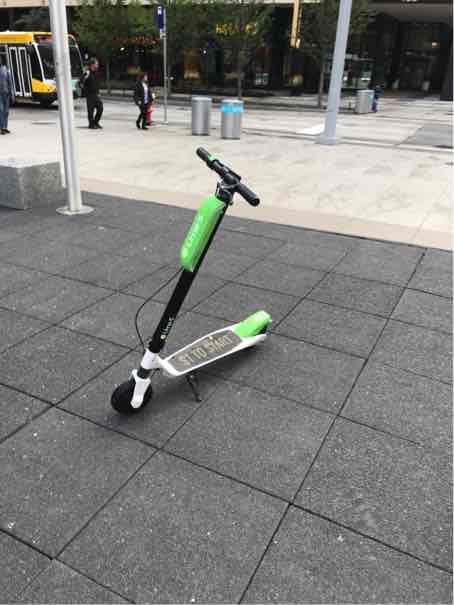scooter: (102, 144, 296, 434)
